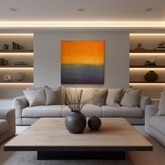painting: (61, 40, 105, 84)
